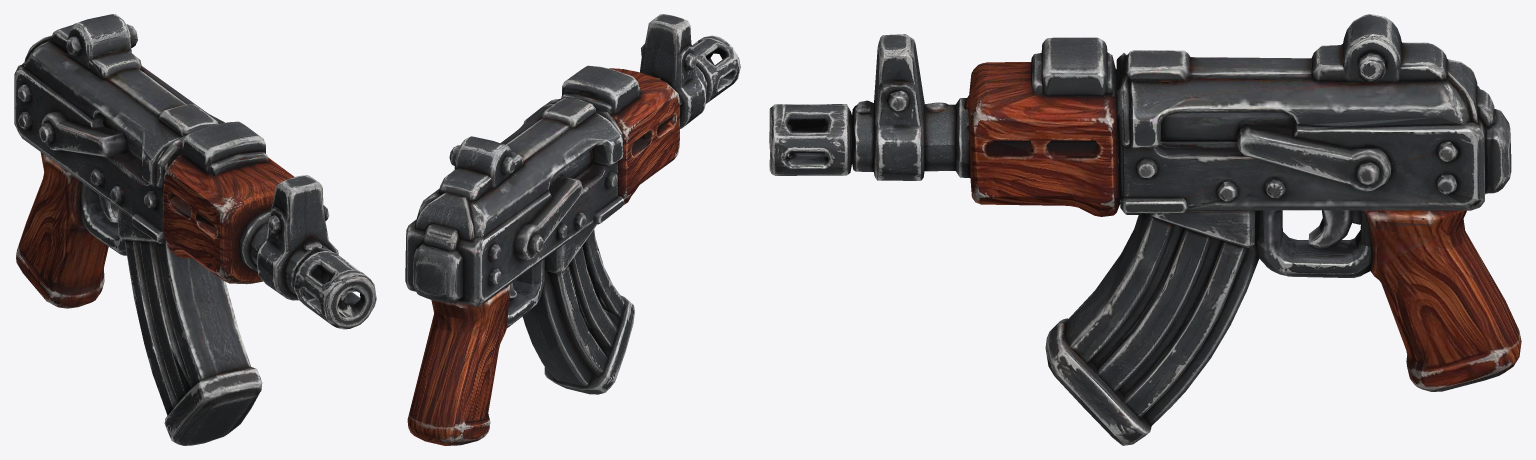
File: gun_drako.glb
3 views of the same model, side by side, from view 1: azimuth 30°, elevation 25°; view 2: azimuth 150°, elevation 25°; view 3: azimuth 270°, elevation 25° (orthographic). The views are drawn at different scales.
Size of the model in its own units: 0.167 by 0.4731 by 0.7823.
1 material, 1 textured.
